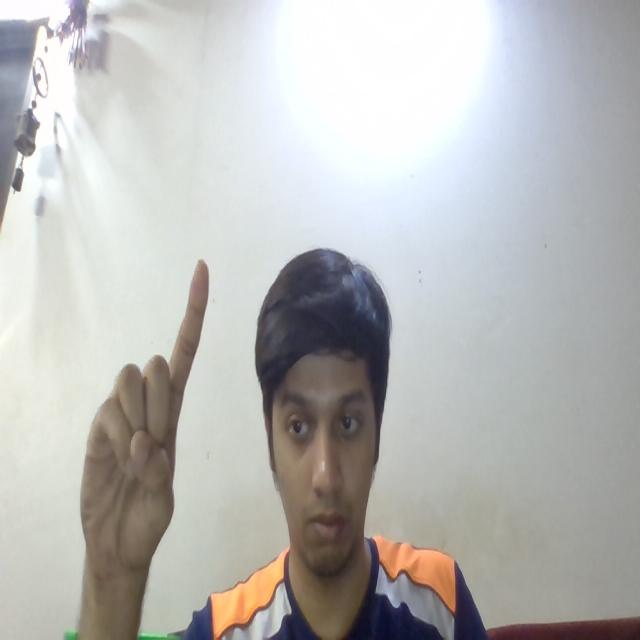Z: (72, 248, 220, 612)
